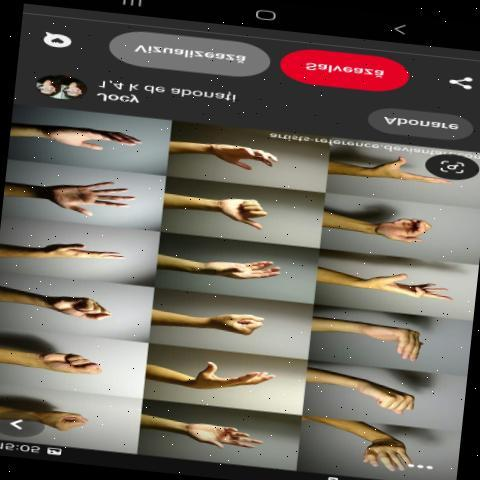Hands: (16, 168, 159, 219), (161, 349, 288, 401), (23, 115, 156, 160), (177, 134, 318, 176), (323, 321, 450, 365), (317, 271, 468, 307), (7, 233, 149, 269), (165, 249, 289, 290), (146, 412, 276, 447), (332, 150, 449, 186)
